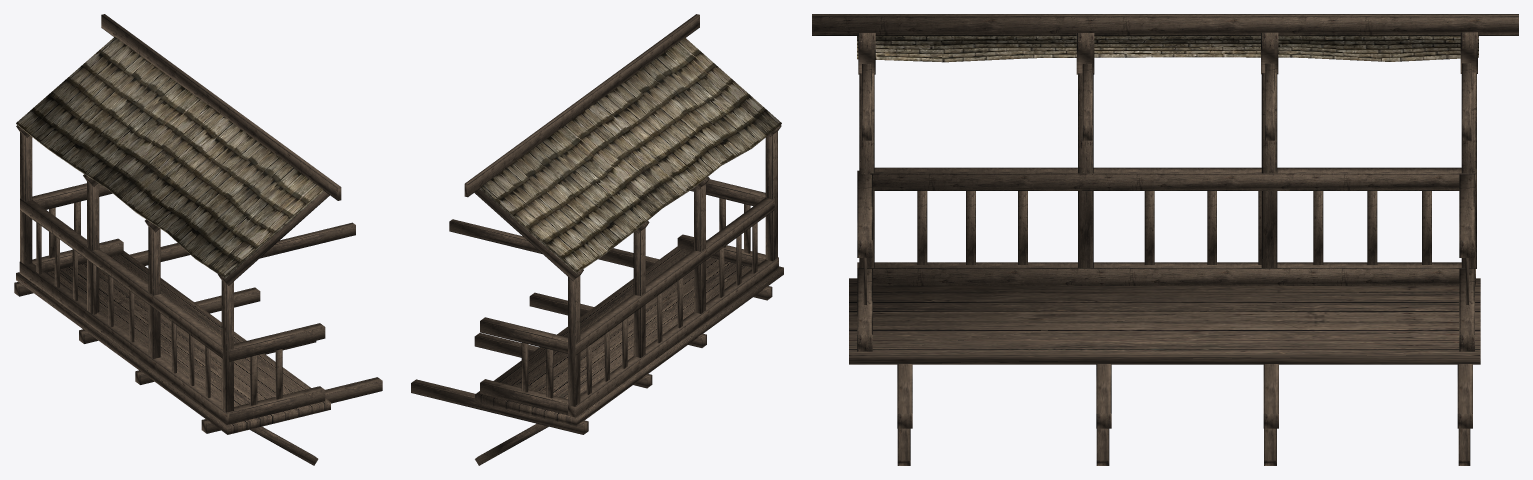
The model's file is balkony1.dae.
The picture shows the model from 3 angles, left to right: view 1: azimuth 30°, elevation 25°; view 2: azimuth 150°, elevation 25°; view 3: azimuth 270°, elevation 25°; orthographic projection. The views are drawn at different scales.
Parts seen in each view (by area): view 1: meshU3D; view 2: meshU3D; view 3: meshU3D.
Part boxes in pixels (x1,y1,x2,y2): meshU3D: (14,14,382,465); meshU3D: (411,14,783,465); meshU3D: (812,14,1518,465).
Bounding box in the file's own units: 3.33 × 5.44 × 7.77.
